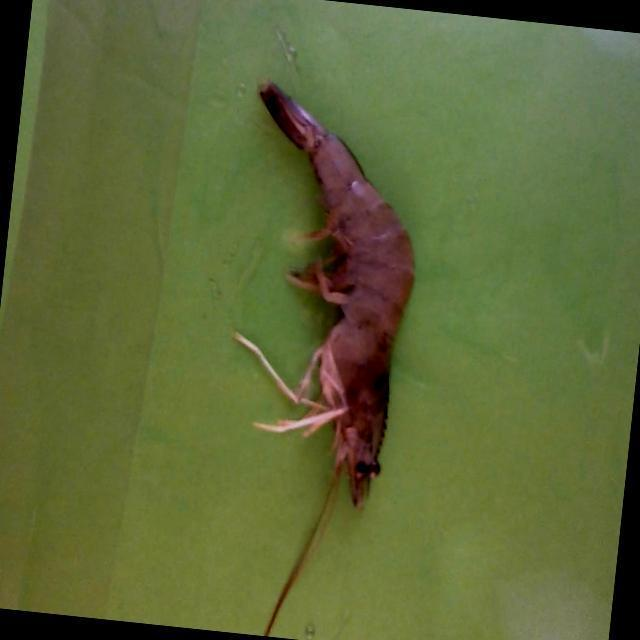shrimp: (260, 80, 414, 505)
